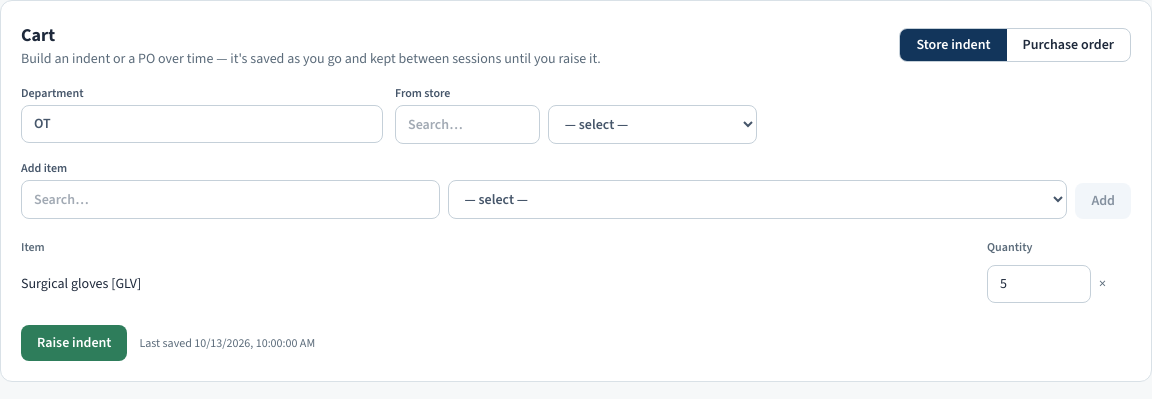
CartPanel › loads the saved cart, saves changes and raises the indent
This screenshot has width=1152, height=399.
Check: the text "Surgical gloves [GLV]" is shown, box [21,259,987,309]
Check: the field showing "OT" is shown, box [21,105,383,143]
Replace the text in the number field named "Quantity" with "8": (1039, 284) [987,265,1091,303]
Wait 700 ms
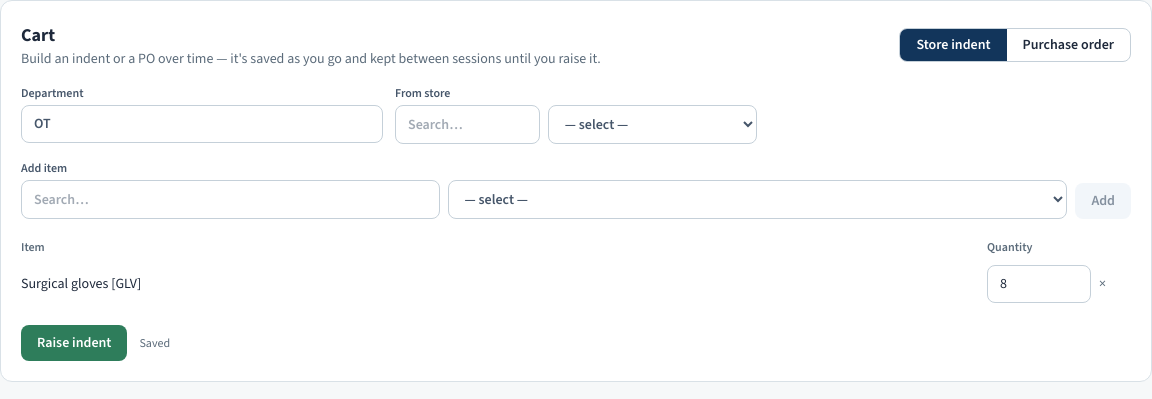
Click the button "Raise indent": (74, 343) [21,325,127,361]
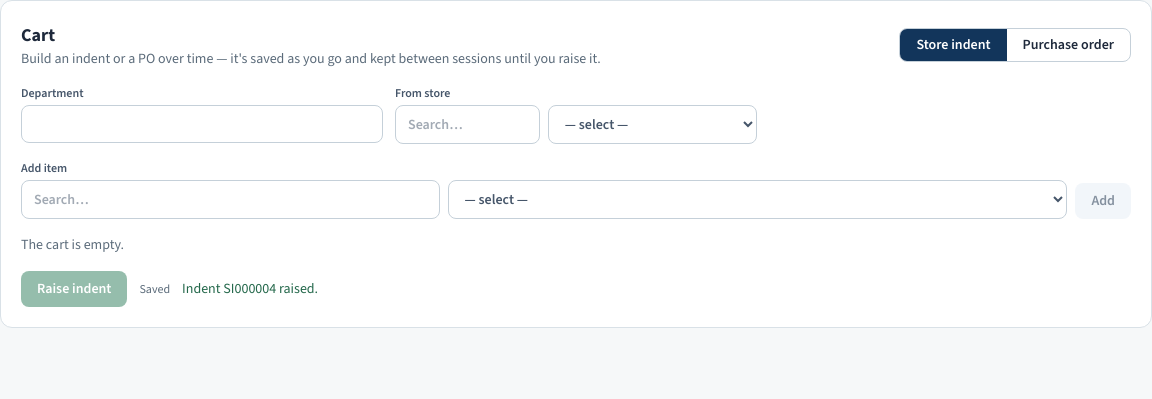
Check: the text "Indent SI000004 raised." is shown, box [182,279,318,299]
Check: the text "The cart is empty." is shown, box [21,235,124,254]
